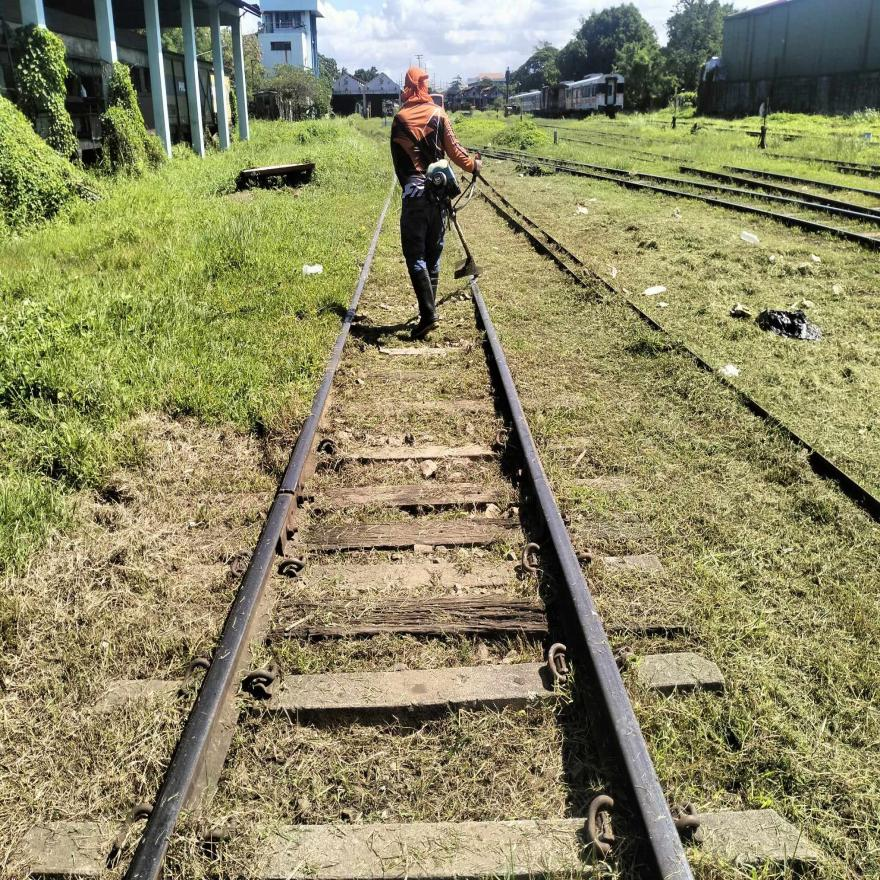railway-gap: (256, 455, 315, 531)
